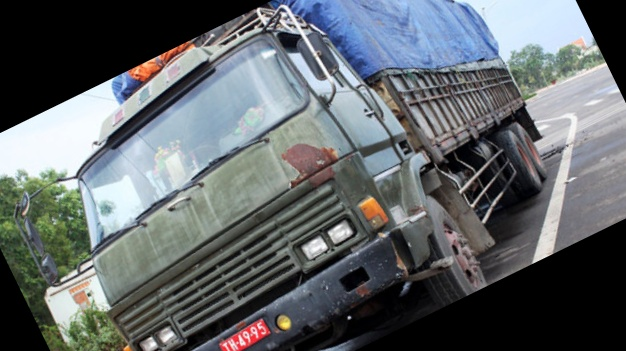plate: (211, 313, 276, 350)
